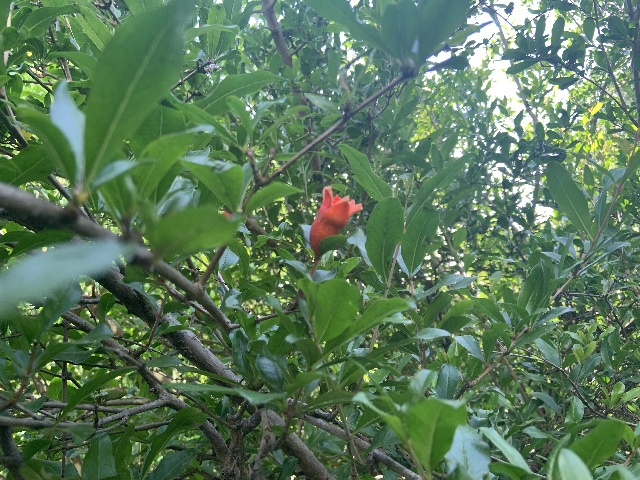flower: (310, 185, 362, 253)
